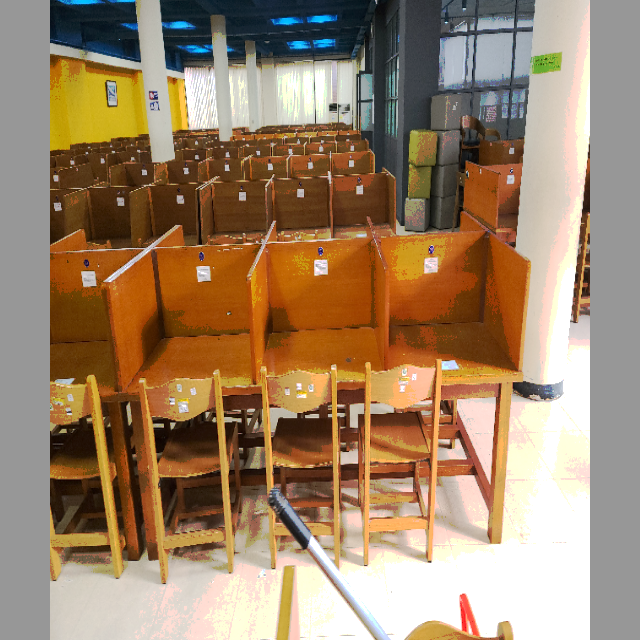empty: (393, 242, 526, 457), (255, 246, 388, 458), (115, 245, 251, 450)
